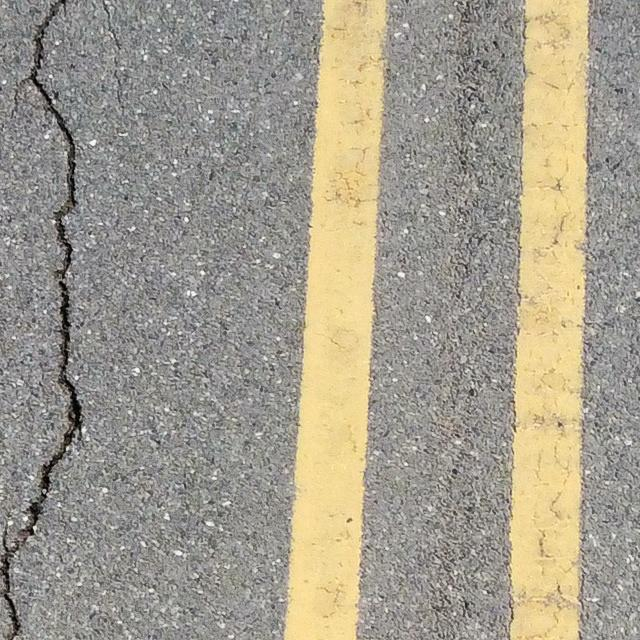LongitudinalCrack: (1, 3, 87, 640)
